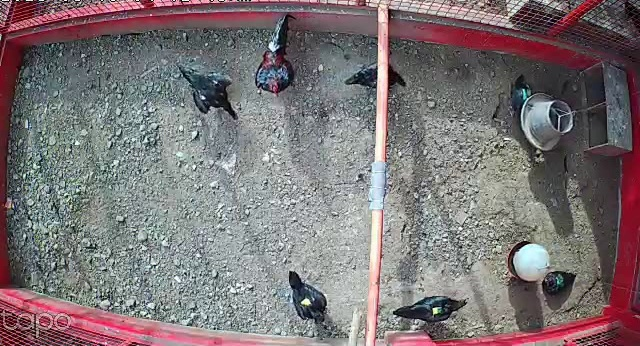Chicken: (176, 59, 243, 122), (284, 264, 330, 327), (390, 291, 470, 325), (342, 53, 409, 91), (505, 72, 533, 120), (541, 266, 577, 296)
Rooster: (250, 11, 307, 99)
Saddle_Color_Yellow: (301, 295, 316, 309)
Saddle_Color_YellowGreen: (431, 306, 442, 316)
